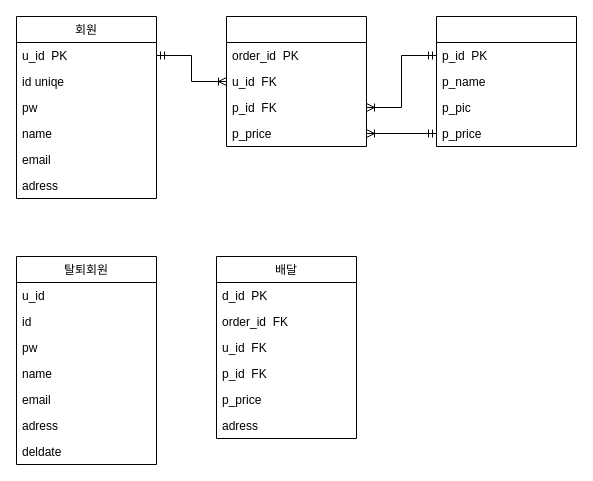
This 593x481 diagram has some shape labels left out. Here are the shapes that lost their labels. From the top down, the box of each, then its label:
(226, 16, 366, 146): 주문
(436, 16, 576, 146): 제품
